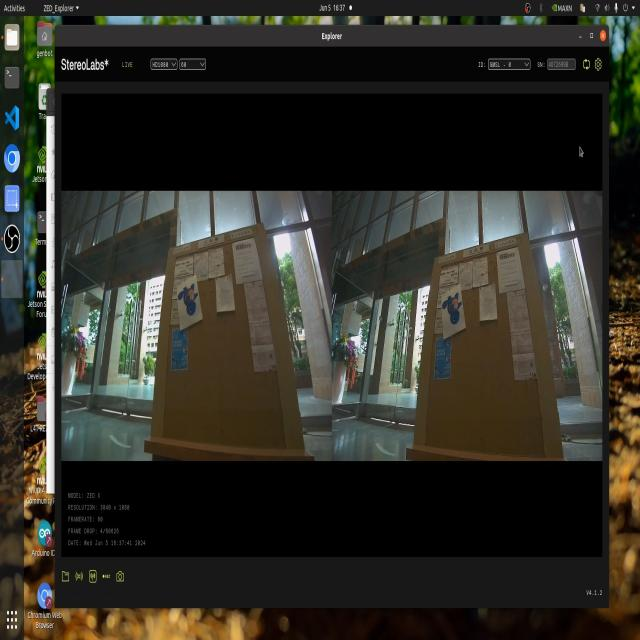blue: (171, 274, 207, 328), (435, 282, 465, 335)
